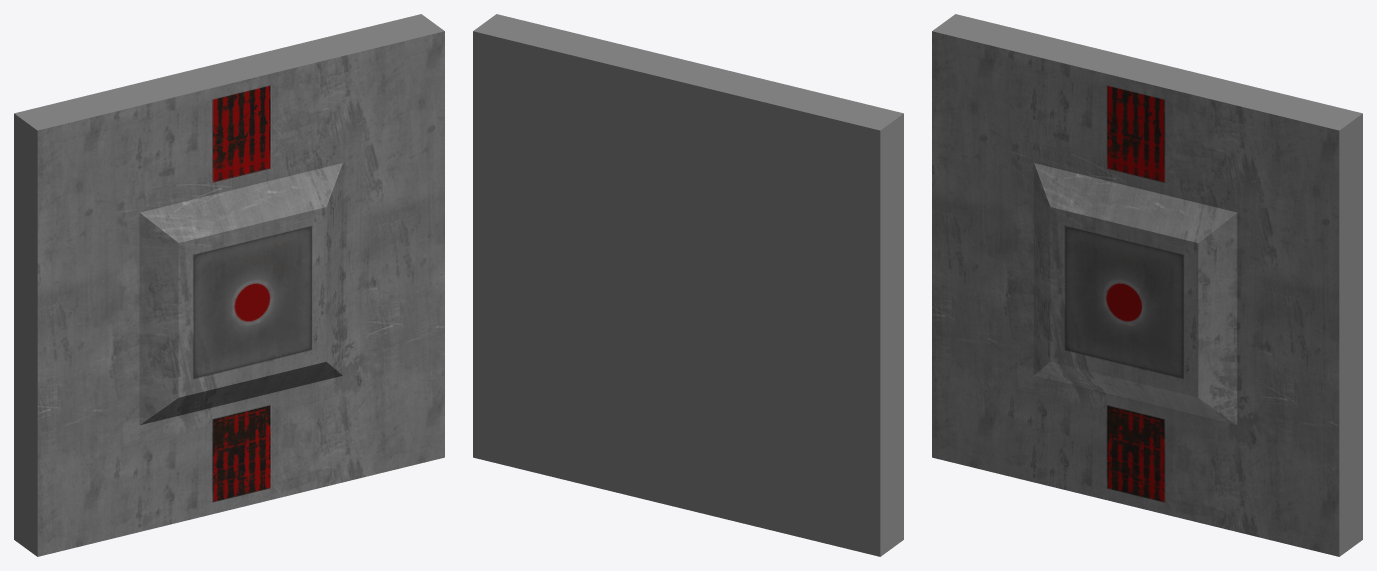
File: wall_camera_HAL.glb
3 renders of one model, left to right at view 1: azimuth 30°, elevation 25°; view 2: azimuth 150°, elevation 25°; view 3: azimuth 330°, elevation 25°, orthographic.
Parts seen in each view (by area): view 1: red_spotlight_low; view 2: red_spotlight_low; view 3: red_spotlight_low.
Boxes of the visible parts, x1,y1,x2,y2 form: red_spotlight_low: (14,14,444,556); red_spotlight_low: (473,14,903,556); red_spotlight_low: (932,14,1362,556).
Size of the model in its own units: 2 by 2 by 0.2968.
1 material, 1 textured.
